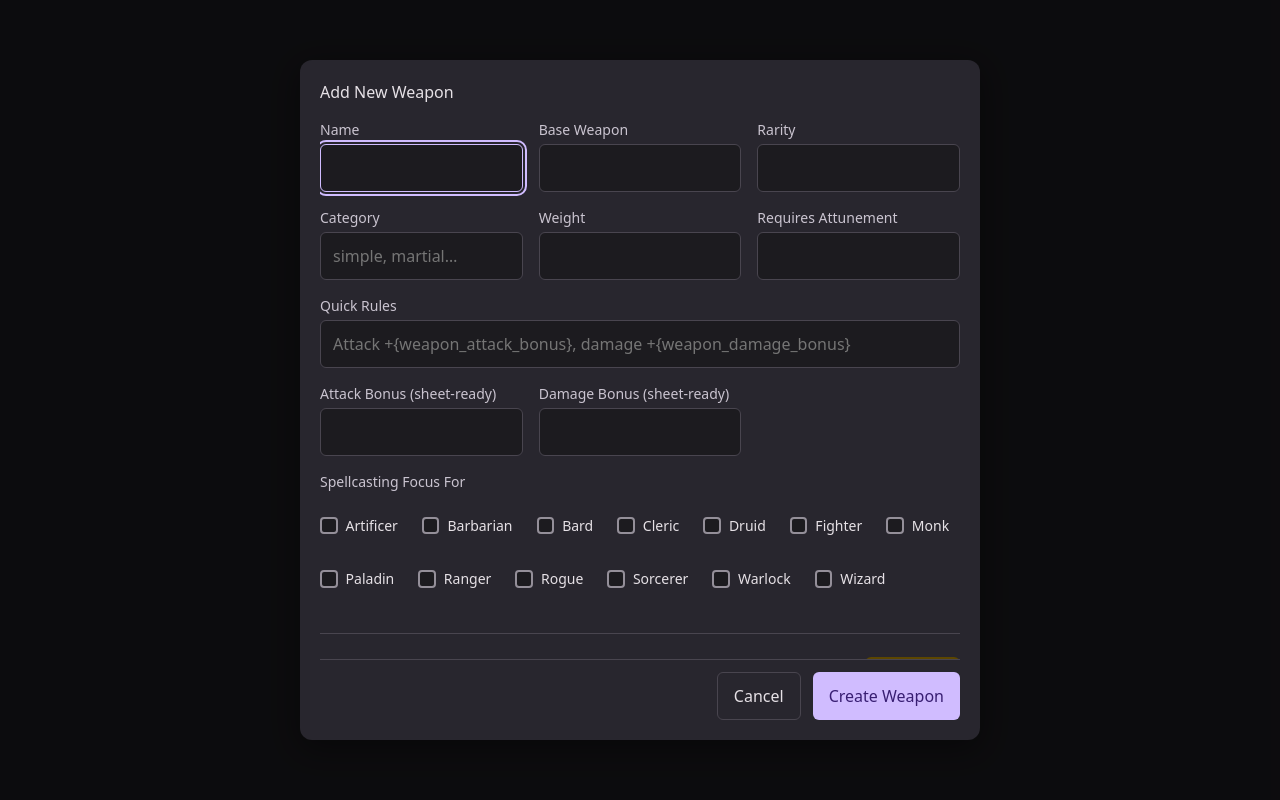
WeaponEditor › Dialog contract › reports save status via an accessible status region
This screenshot has width=1280, height=800.
Type "Broken Sword" into the field labelled "Name" at {"x": 421, "y": 168}, box [320,144,523,192]
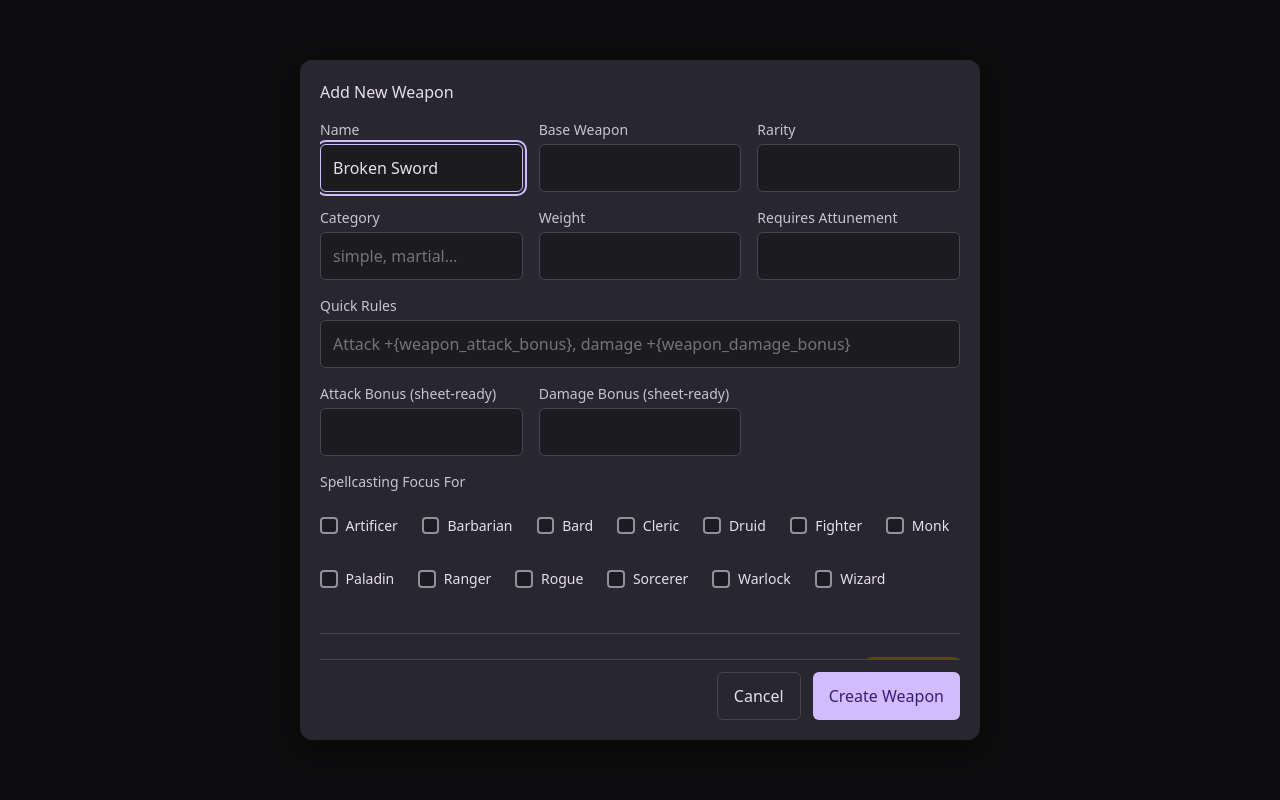
Type "a weapon" into the field labelled "Quick Rules" at {"x": 640, "y": 344}, box [320,320,960,368]
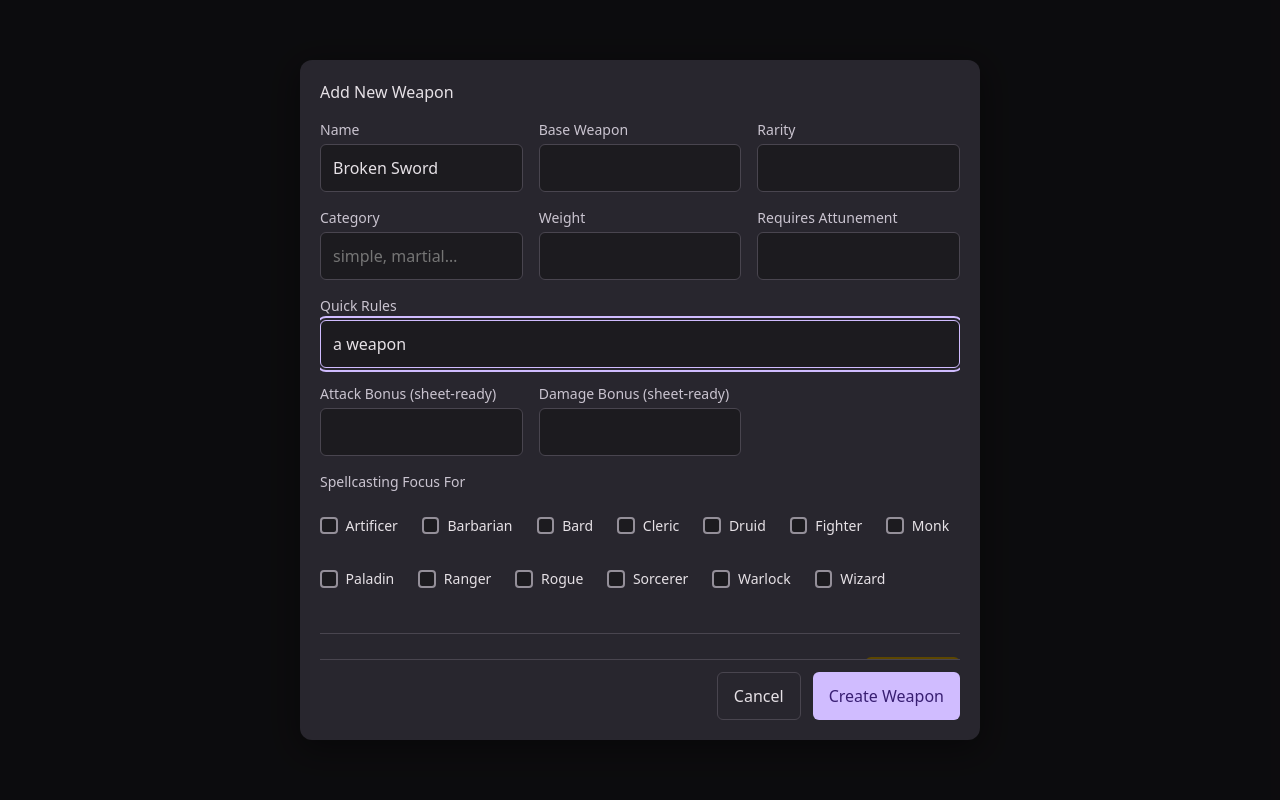
Click the button "Create Weapon" at {"x": 886, "y": 696}, box [813,672,960,720]
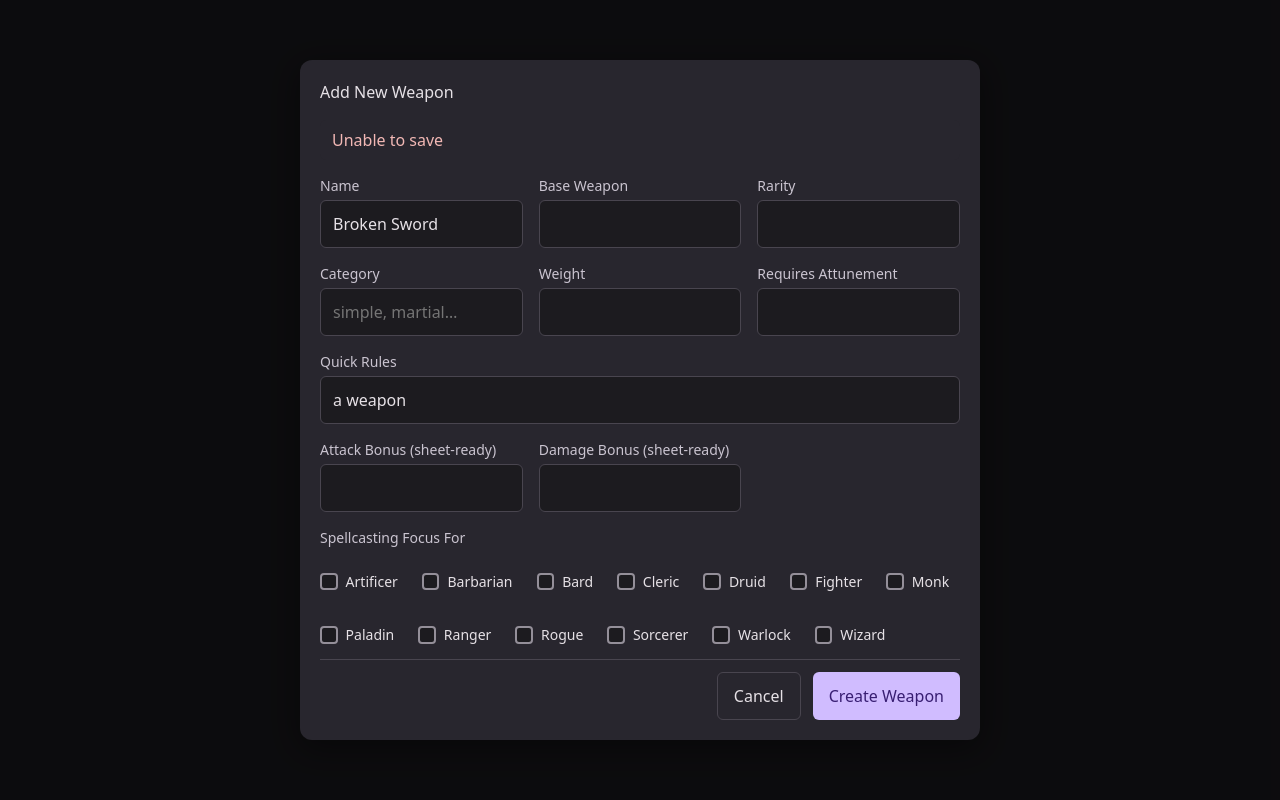
Expected: the message reads "Unable to save", [332,129,443,151]
